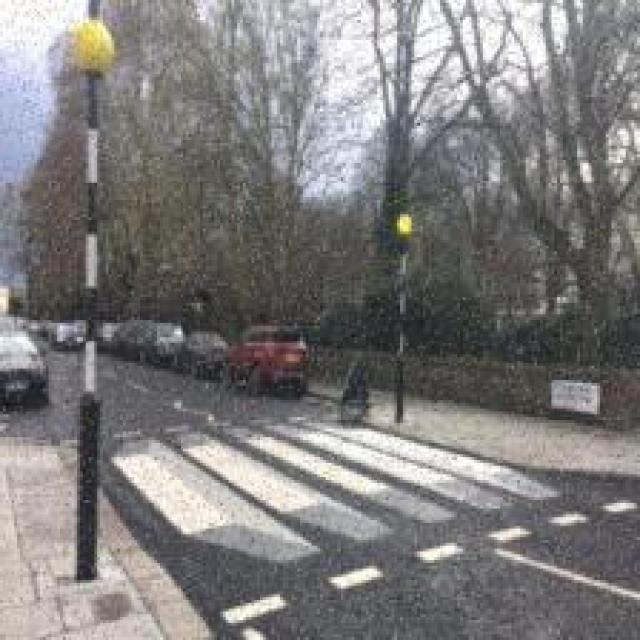crosswalk: (107, 409, 640, 625)
